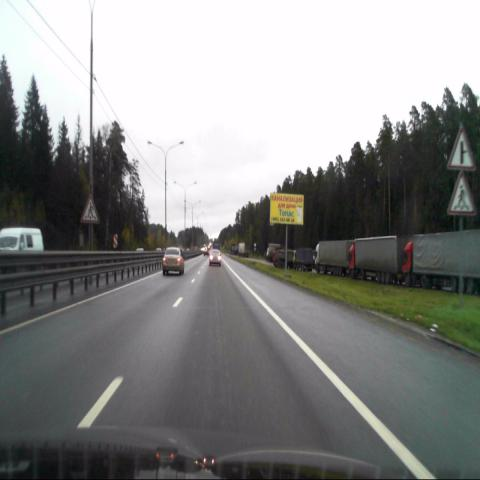1_22: (447, 172, 476, 216), (80, 195, 100, 224)
